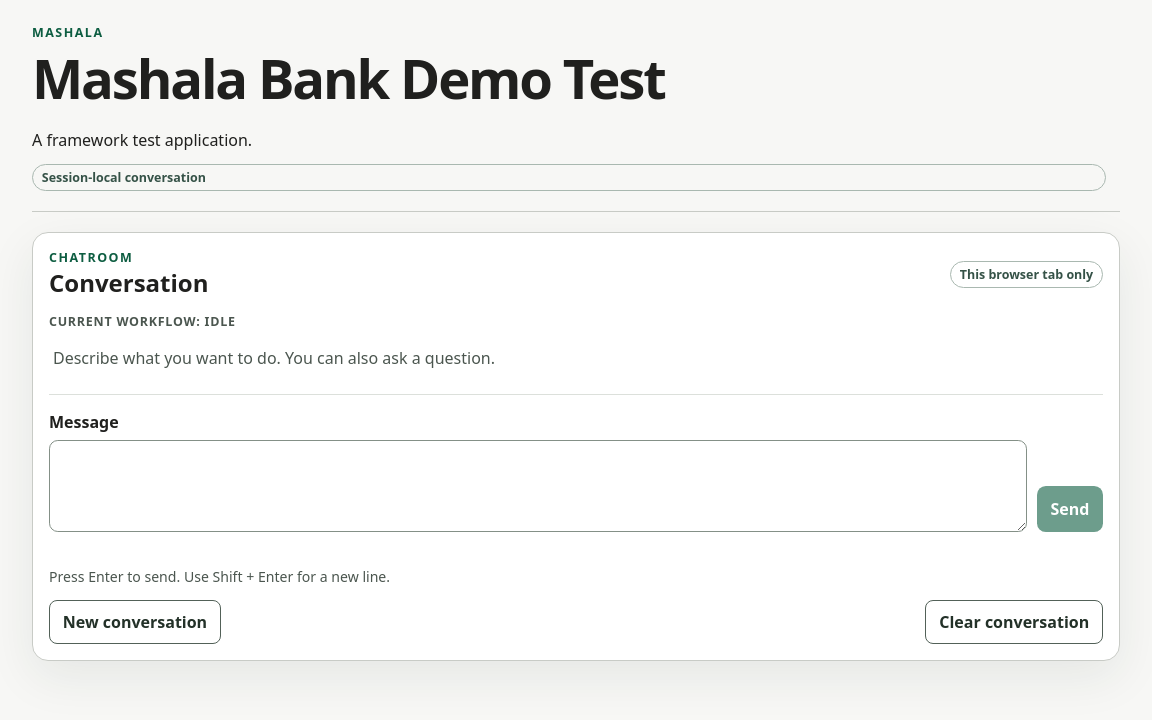
Scenario: MashalaChat message transport › shows a clear transport failure
Type "transfer 500 to X" into the text box labelled "Message". click: (538, 486)
box: [49,440,1026,532]
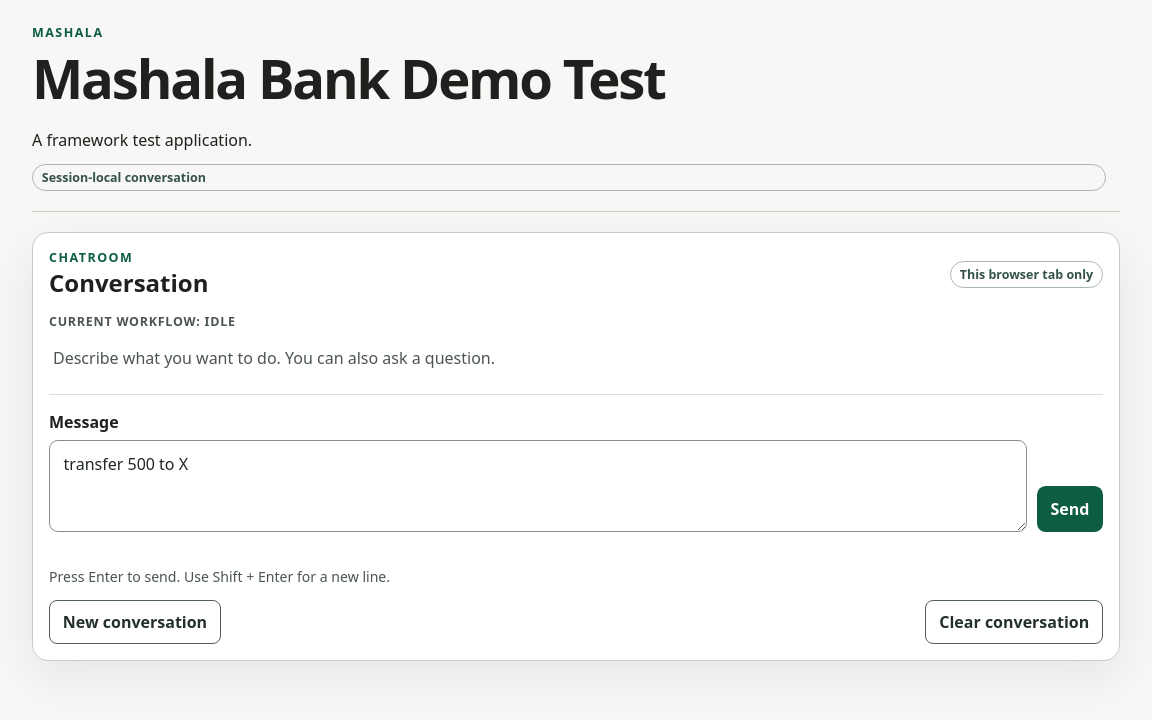
Click the button "Send". click: (1070, 509)
box: [1037,486,1103,532]
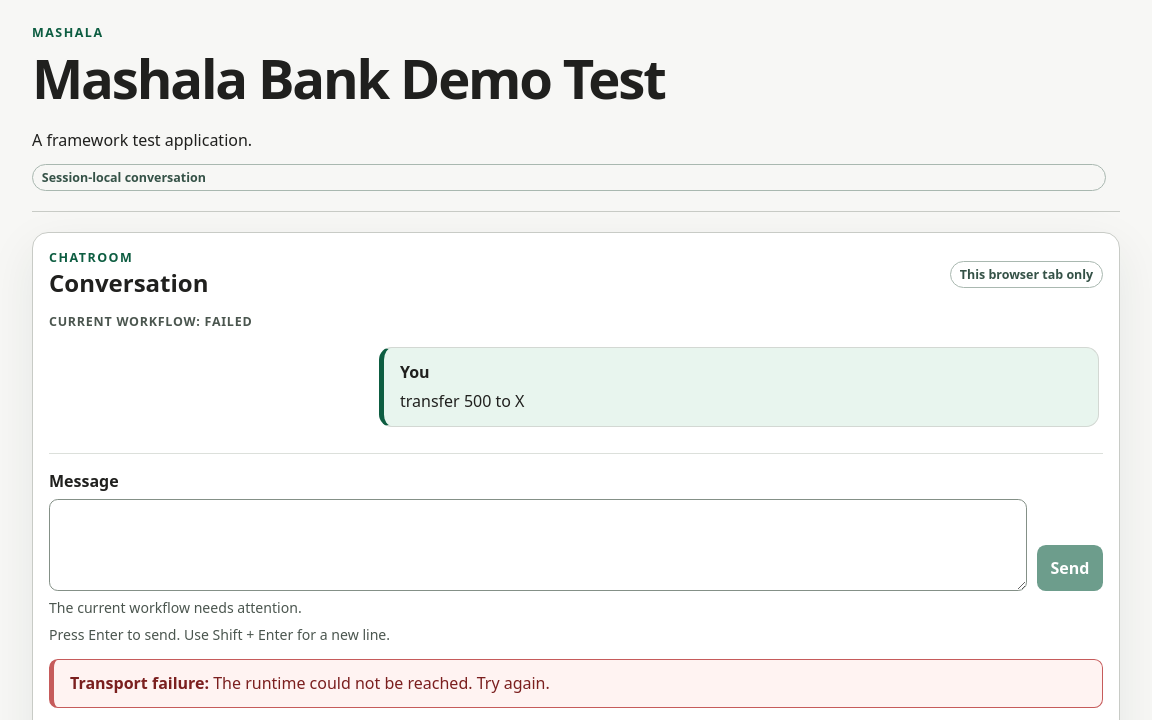
Expected: the message "Transport failure: The runtime could not be reached. Try again." is shown, [49,659,1103,708]
